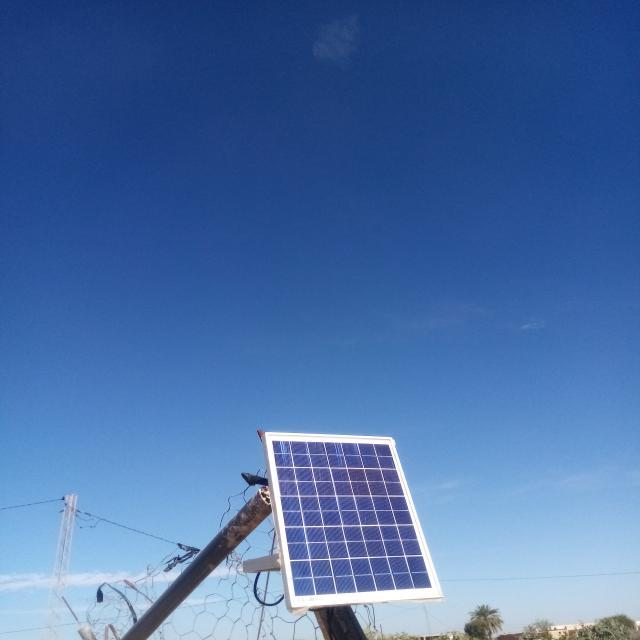no faulty: (266, 433, 442, 607)
